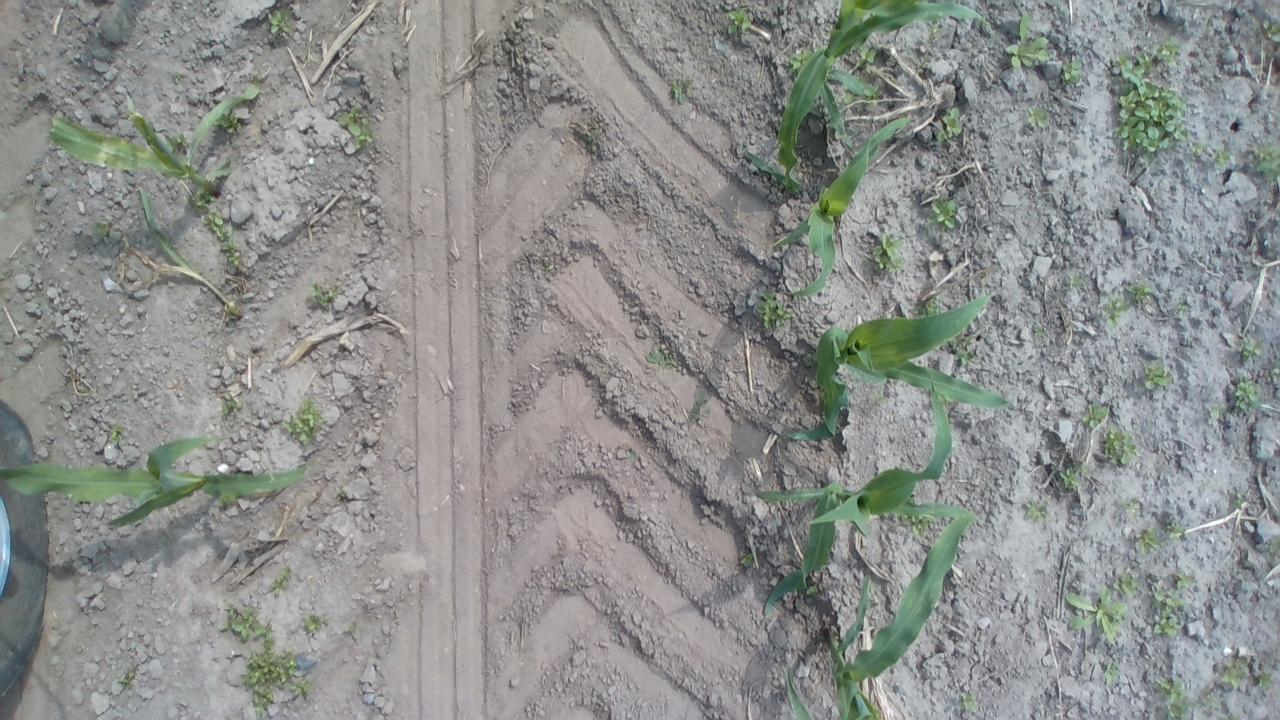Maize: (748, 378, 989, 620), (742, 0, 992, 192), (778, 515, 976, 720), (802, 286, 1018, 435), (0, 429, 316, 530), (38, 74, 274, 208), (772, 110, 916, 300)
Weeds: (1104, 42, 1186, 164), (240, 638, 316, 717), (1058, 585, 1126, 646), (205, 204, 249, 270), (1002, 19, 1058, 70), (1147, 675, 1199, 720), (1147, 577, 1184, 640), (278, 395, 322, 444), (749, 289, 796, 329), (218, 604, 270, 640), (1216, 655, 1254, 698), (338, 108, 378, 148), (1250, 134, 1280, 187), (1228, 372, 1266, 413), (1102, 426, 1140, 466), (870, 233, 906, 275), (722, 7, 758, 47), (643, 338, 683, 373), (219, 386, 252, 426), (925, 194, 957, 232), (1140, 358, 1172, 393), (938, 108, 968, 145), (900, 513, 936, 542), (266, 566, 298, 598), (1098, 294, 1126, 330), (1018, 497, 1053, 525), (1126, 276, 1156, 308), (950, 334, 978, 368), (112, 664, 141, 696), (311, 282, 340, 314), (1228, 486, 1257, 516), (1237, 336, 1266, 366), (265, 12, 297, 39), (297, 608, 327, 636), (1114, 571, 1142, 601), (1122, 495, 1150, 525), (1023, 105, 1055, 130), (1138, 528, 1164, 558), (218, 111, 246, 138), (956, 685, 982, 714), (336, 480, 360, 510), (1060, 56, 1082, 88), (1198, 686, 1223, 714), (1162, 520, 1188, 546), (90, 217, 114, 245), (668, 76, 693, 102), (854, 43, 880, 68), (1099, 661, 1124, 685), (1080, 403, 1104, 428), (1210, 145, 1234, 170), (106, 420, 131, 443), (1063, 467, 1086, 492), (1258, 20, 1280, 44), (688, 391, 708, 417), (580, 124, 604, 145), (1174, 296, 1192, 324), (1174, 570, 1196, 590), (1254, 671, 1276, 691), (1268, 356, 1280, 389), (1190, 138, 1206, 156), (740, 552, 756, 568)
